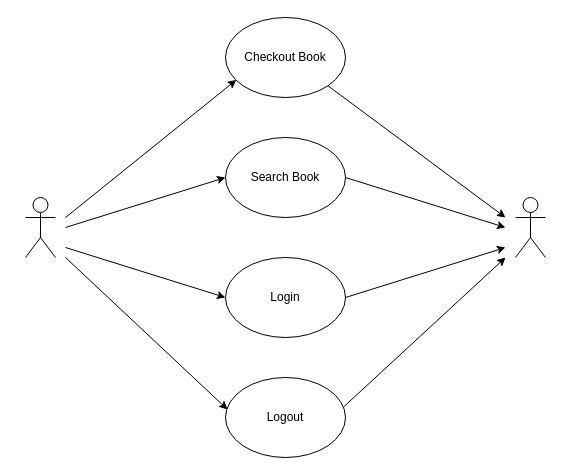
This 588x475 diagram has some shape labels left out. The centre of each missing label's shape, as x and y in pixels:
"Librarian" goes at pixel 40 227.
"Library System" goes at pixel 530 227.
